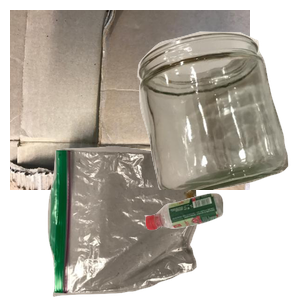cardboard: (10, 10, 250, 190)
glass: (135, 29, 300, 209)
plastic: (142, 191, 300, 300)
trash: (45, 144, 235, 300)
